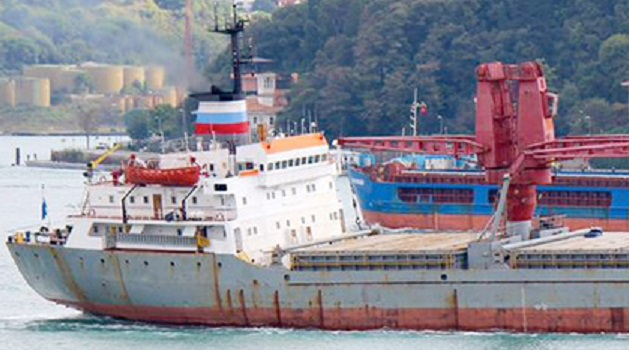rust: (46, 249, 89, 301), (209, 257, 248, 313), (108, 252, 136, 308), (269, 292, 287, 323), (313, 294, 330, 325), (450, 292, 462, 326)
